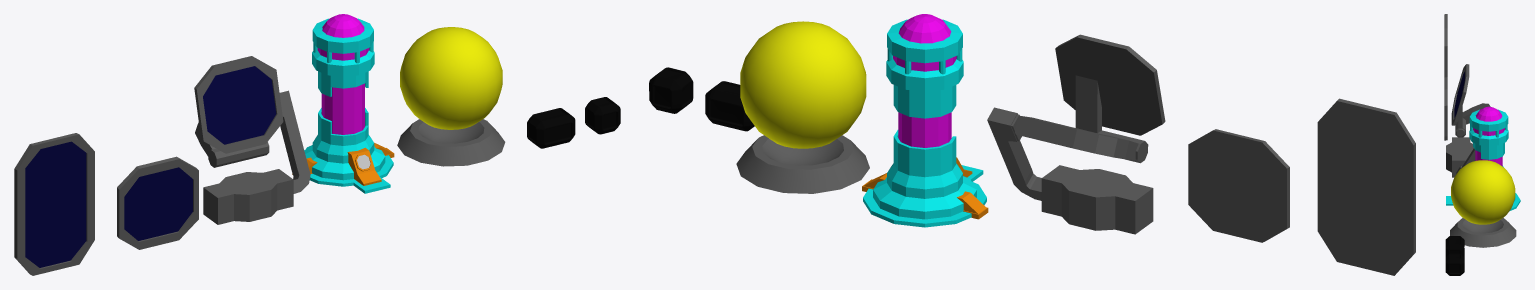
File: Props_GJ.fbx
3 views of the same model, side by side, from view 1: azimuth 30°, elevation 25°; view 2: azimuth 150°, elevation 25°; view 3: azimuth 270°, elevation 25° (orthographic). The views are drawn at different scales.
Parts seen in each view (by area): view 1: Screen1, Sphere003, Cylinder, Screen3, Screen2, Box2, Box1; view 2: Screen1, Sphere003, Cylinder, Screen3, Screen2, Box2, Box1; view 3: Sphere003, Cylinder, Screen1, Box1, Box2, Screen2, Screen3.
Boxes of the visible parts, x1,y1,x2,y2 form: Screen1: [194, 56, 310, 224]; Sphere003: [397, 27, 505, 166]; Cylinder: [292, 14, 394, 193]; Screen3: [14, 133, 94, 275]; Screen2: [117, 156, 198, 249]; Box2: [527, 108, 575, 148]; Box1: [585, 97, 620, 134]; Screen1: [987, 34, 1165, 234]; Sphere003: [736, 21, 869, 193]; Cylinder: [862, 14, 988, 227]; Screen3: [1317, 98, 1415, 275]; Screen2: [1188, 129, 1289, 242]; Box2: [705, 81, 754, 131]; Box1: [649, 67, 693, 113]; Sphere003: [1450, 160, 1516, 247]; Cylinder: [1446, 106, 1520, 211]; Screen1: [1446, 64, 1490, 177]; Box1: [1445, 253, 1464, 275]; Box2: [1445, 236, 1464, 257]; Screen2: [1444, 77, 1447, 140]; Screen3: [1444, 14, 1447, 77].
Size of the model in its own units: 5.88 by 1.39 by 1.02.
